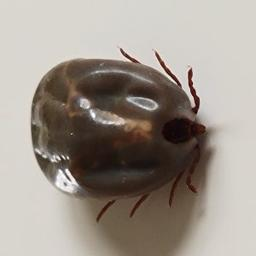Rhipicephalus sanguineus: (30, 45, 206, 222)
